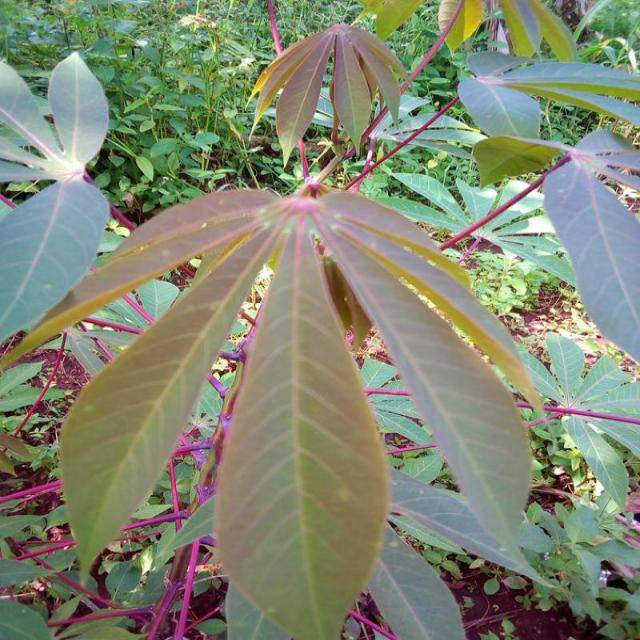cassava leaf: (43, 179, 546, 637), (213, 207, 391, 638)
